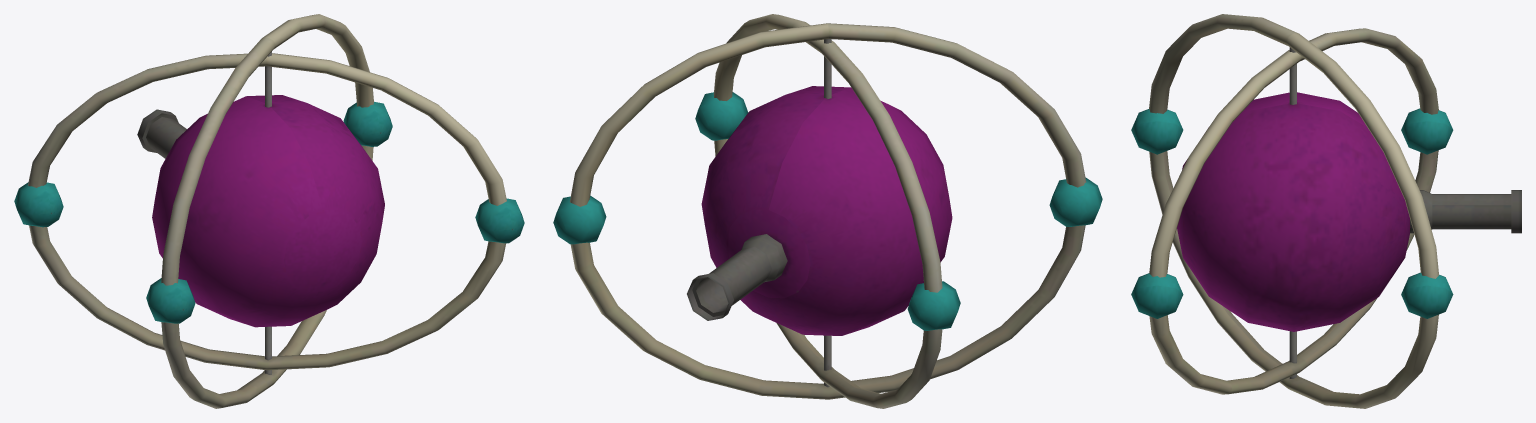
File: nt_nuketown_sign_topper_LOD0.obj
The picture shows the model from 3 angles, left to right: view 1: azimuth 30°, elevation 25°; view 2: azimuth 150°, elevation 25°; view 3: azimuth 270°, elevation 25°; orthographic projection. The views are drawn at different scales.
Parts seen in each view (by area): view 1: mtl_nt_nuketown_sign02; view 2: mtl_nt_nuketown_sign02; view 3: mtl_nt_nuketown_sign02.
Boxes of the visible parts, box(x1,y1,x2,y2) form: mtl_nt_nuketown_sign02: box(14, 14, 524, 408); mtl_nt_nuketown_sign02: box(553, 14, 1102, 408); mtl_nt_nuketown_sign02: box(1131, 14, 1521, 408).
Size of the model in its own units: 487 by 434 by 432.
